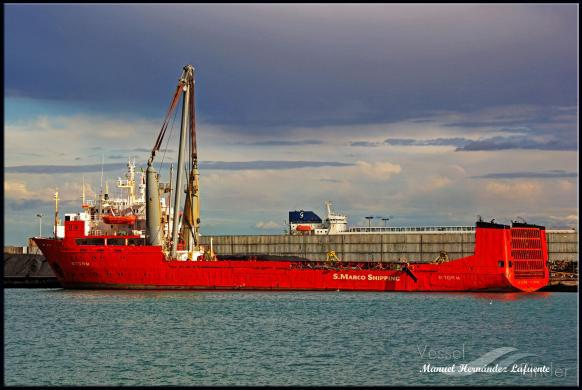OCR: (326, 268, 400, 284)
